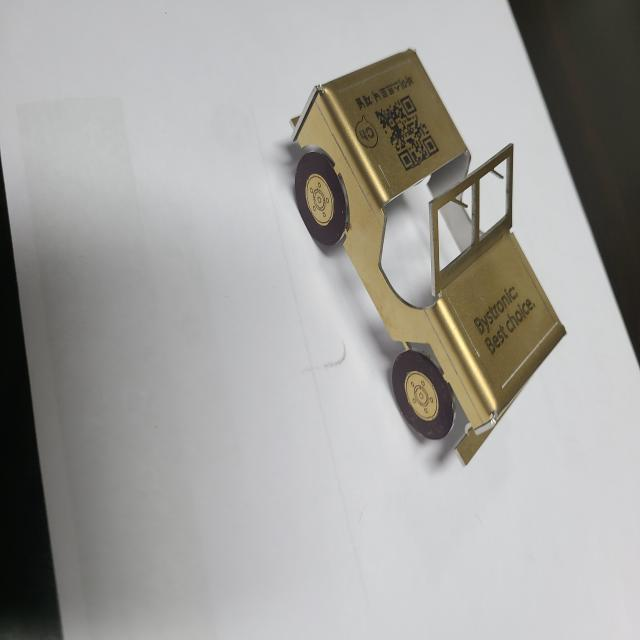tire: (392, 349, 457, 439), (295, 151, 349, 246)
